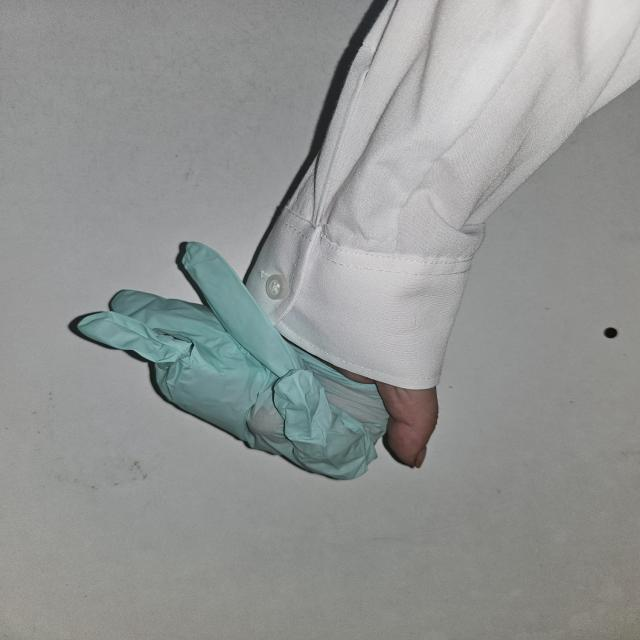glove_partial: (77, 241, 441, 480)
